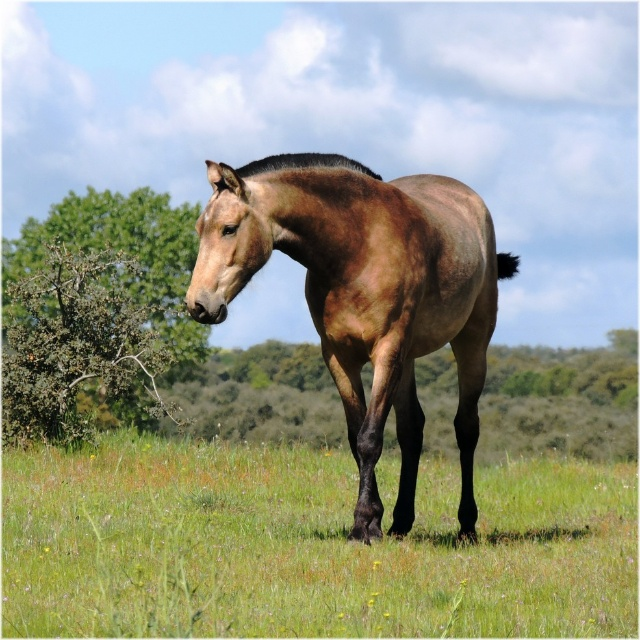Horse: (184, 153, 519, 540)
